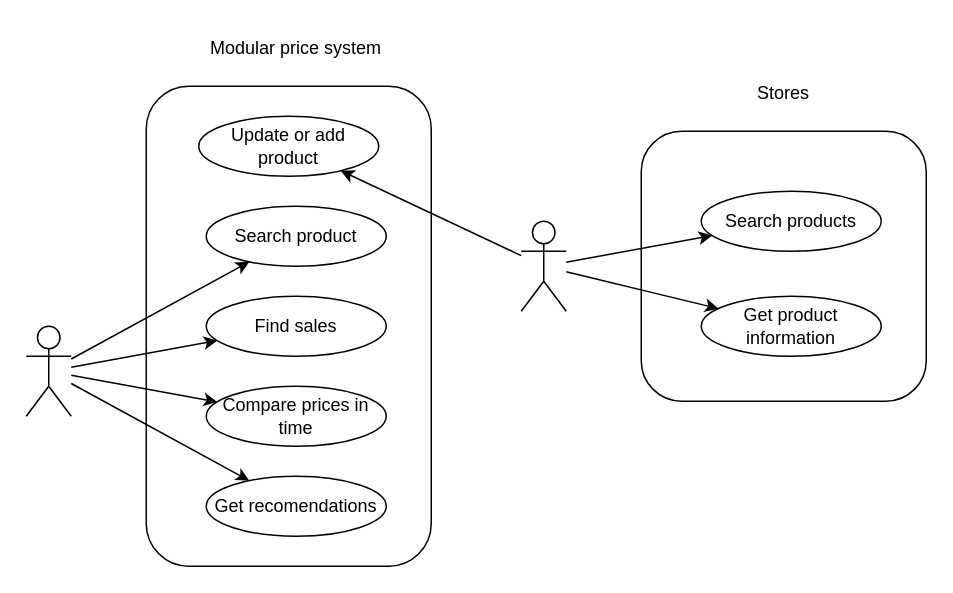
Some shapes in this 953 by 593 pixel diagram are drawn without their labels. Here are the shapes that lost their labels. From the top down, the box of each, then its label:
(520, 220, 566, 311): Scrapper (system bot)
(25, 325, 71, 416): User
